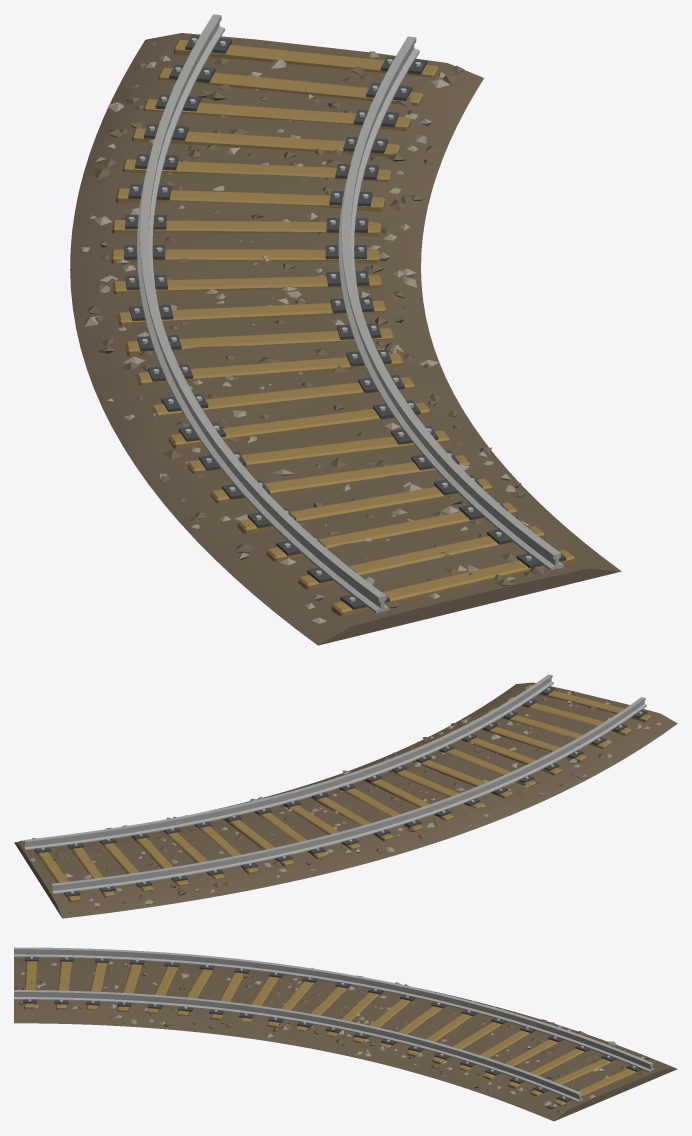
File: legacy-curved-rail-ne.glb
3 views of the same model, one above another, from view 1: azimuth 30°, elevation 25°; view 2: azimuth 150°, elevation 25°; view 3: azimuth 270°, elevation 25° (orthographic). The views are drawn at different scales.
Visible parts, largest first — view 1: body; view 2: body; view 3: body.
Boxes of the visible parts, <box> form: body: <box>70,14,621,645</box>; body: <box>14,674,677,918</box>; body: <box>14,947,677,1121</box>.
Bounding box in the file's own units: 4.74 × 0.2157 × 7.72.
